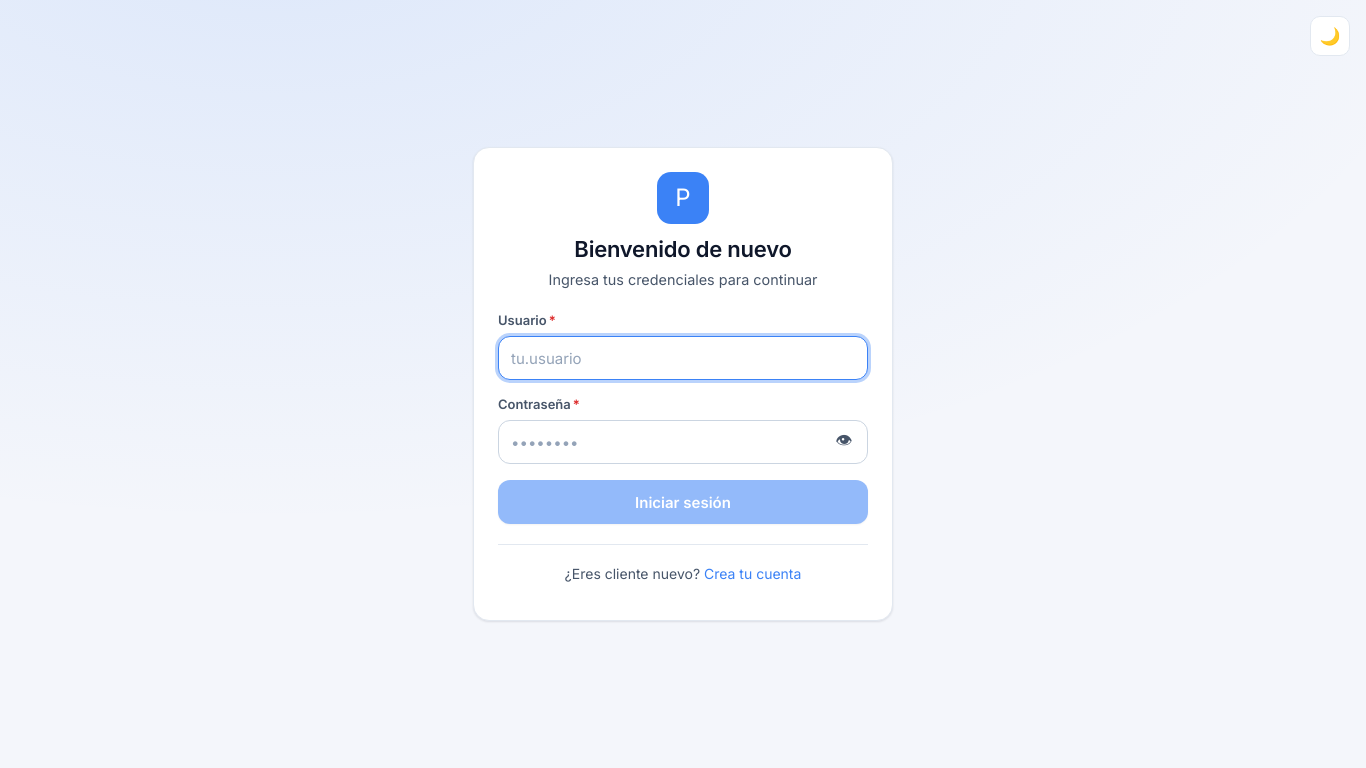
Test case: LoginPage › muestra mensaje de ApiError al fallar
The width and height of the screenshot is (1366, 768).
In the field labelled "Usuario*": (683, 358) [498,336,868,380], type "x"
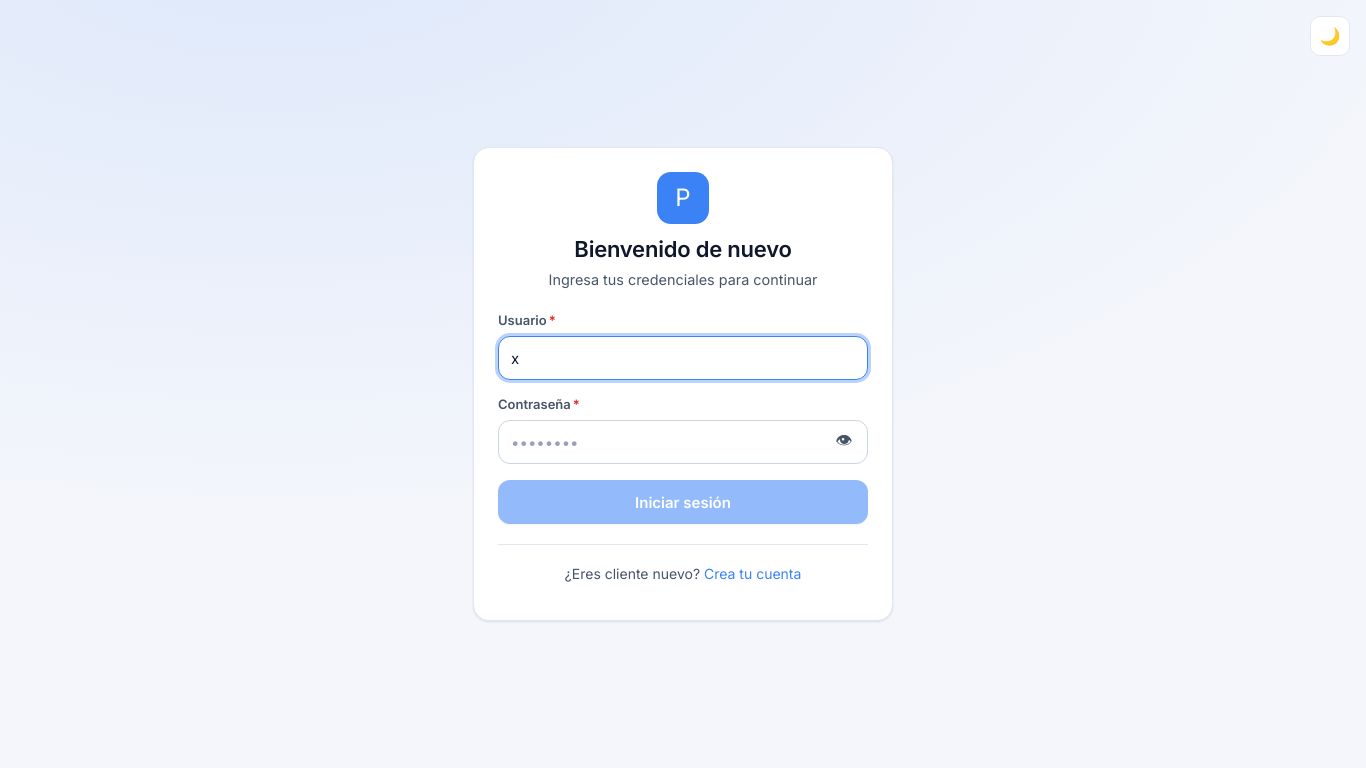
In the password field labelled "Contraseña*": (683, 442) [498,420,868,464], type "y"
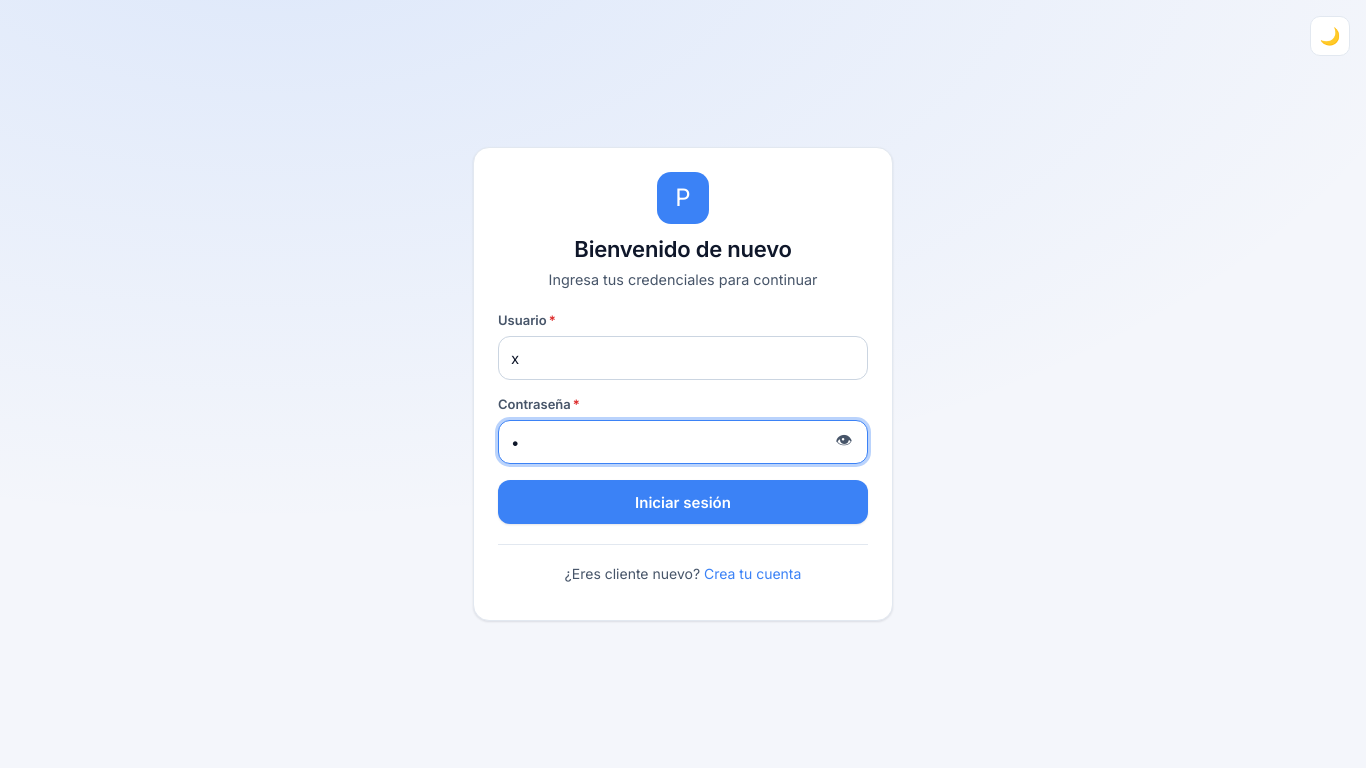
Click the button "Iniciar sesión": (683, 502) [498,480,868,524]
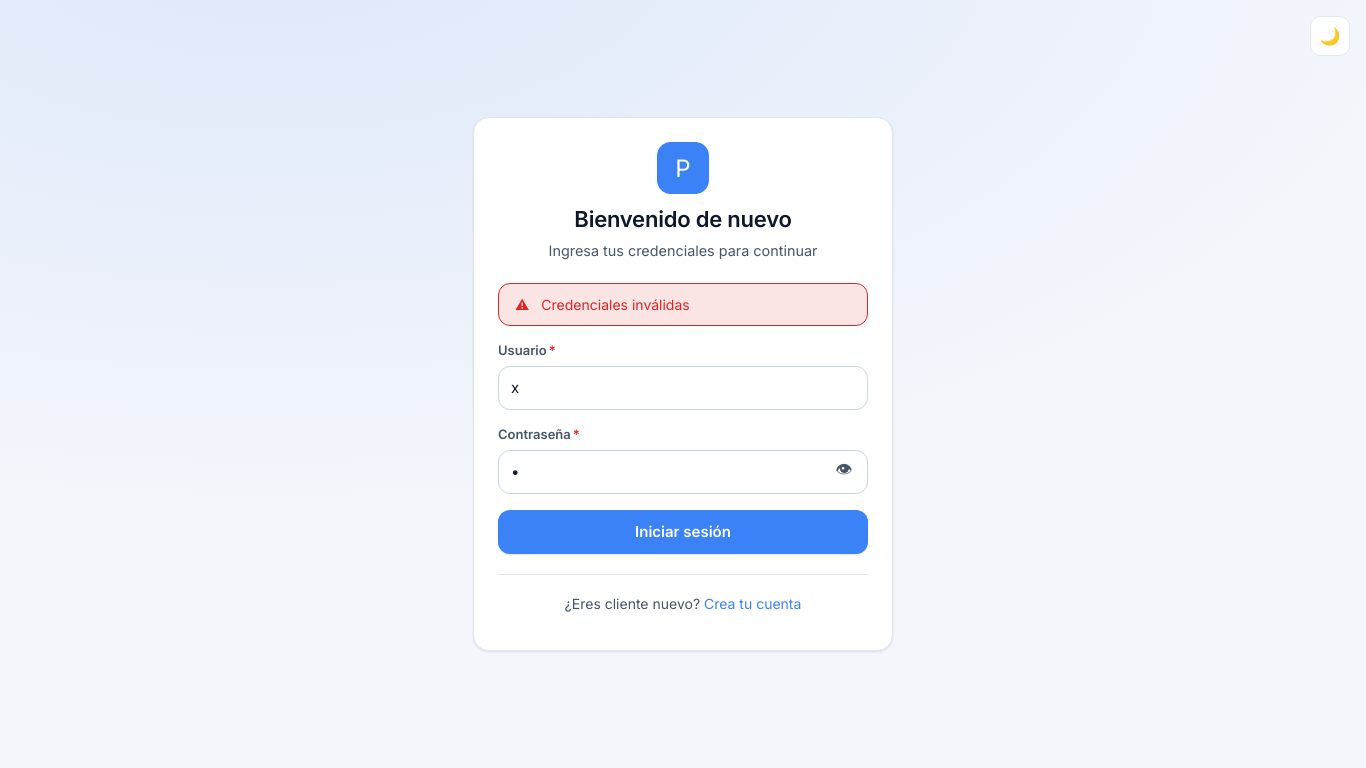
Now the message shows "Credenciales inválidas", box [541,296,690,313]
